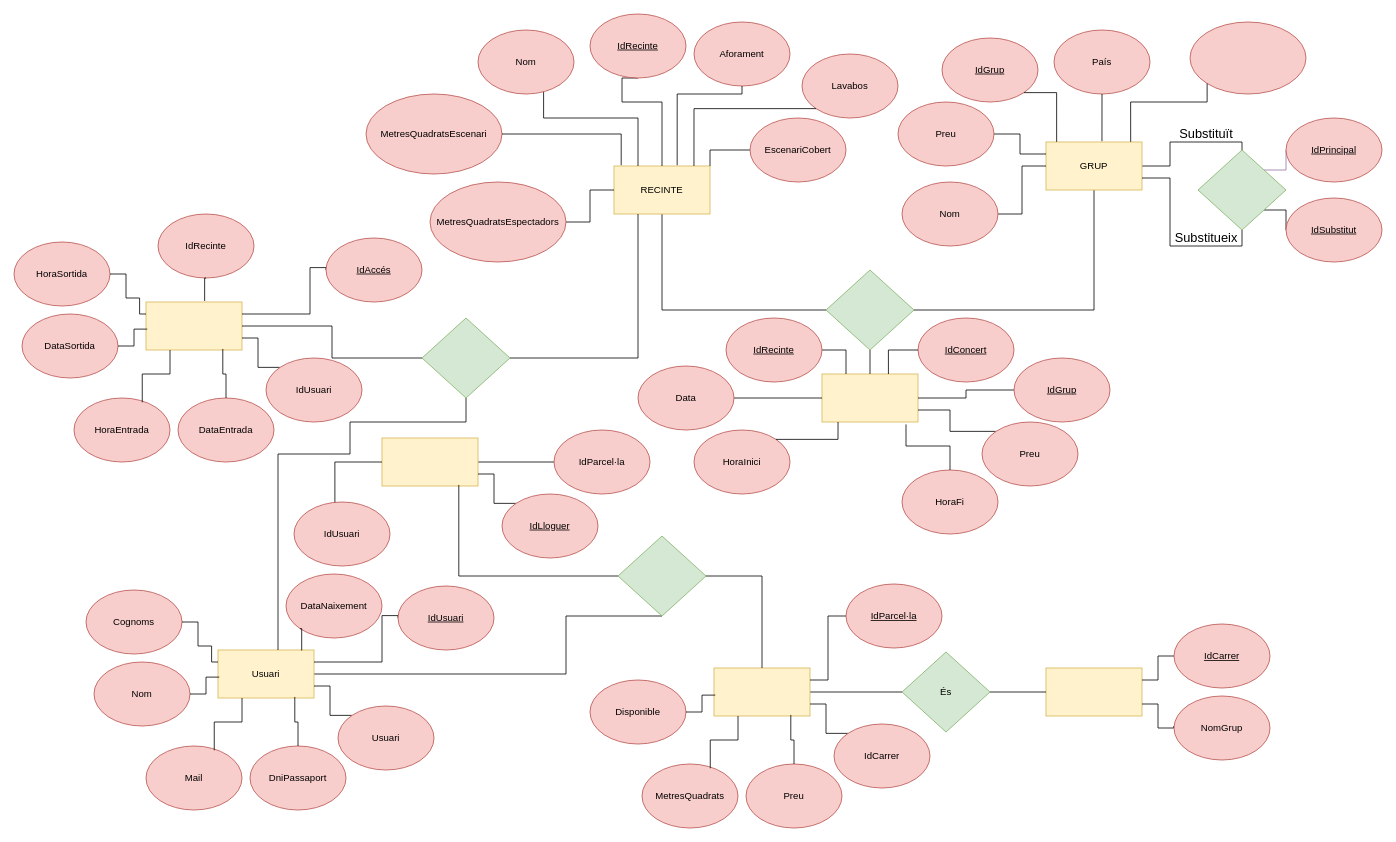
This 1396x842 diagram has some shape labels left out. The shapes that lost their labels are listed below. From the top down, each one's centre as x and y in pixels, then its label:
(x=1247, y=57): NombreComponents
(x=1241, y=189): SUBSTITUT
(x=193, y=325): ACCÉS
(x=869, y=309): Actuar
(x=465, y=357): Accedeix
(x=869, y=397): Concert
(x=429, y=461): Lloguer
(x=661, y=575): Llogar
(x=761, y=691): PARCEL·LA
(x=1093, y=691): CARRER
